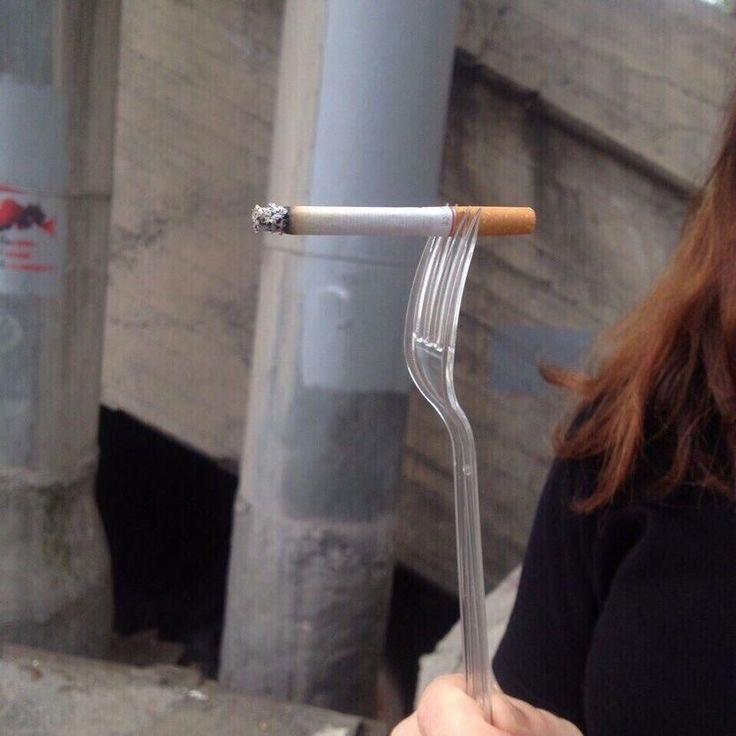cigarette: (252, 206, 537, 235)
